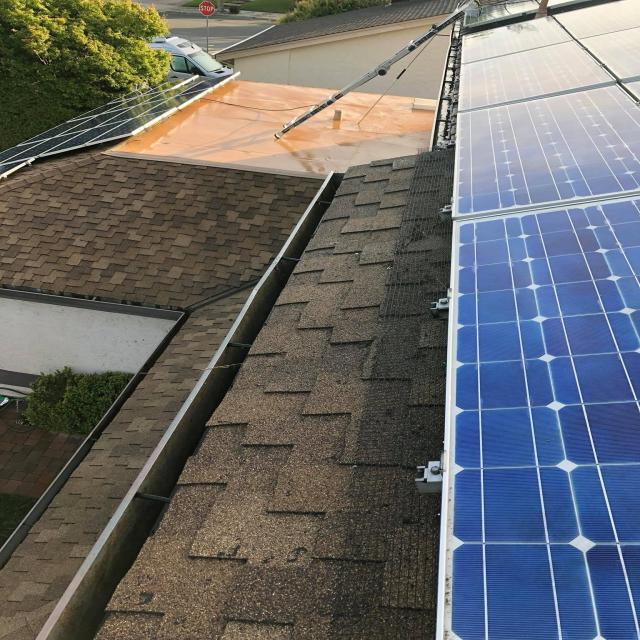clean-solar-panel: (437, 0, 640, 640)
